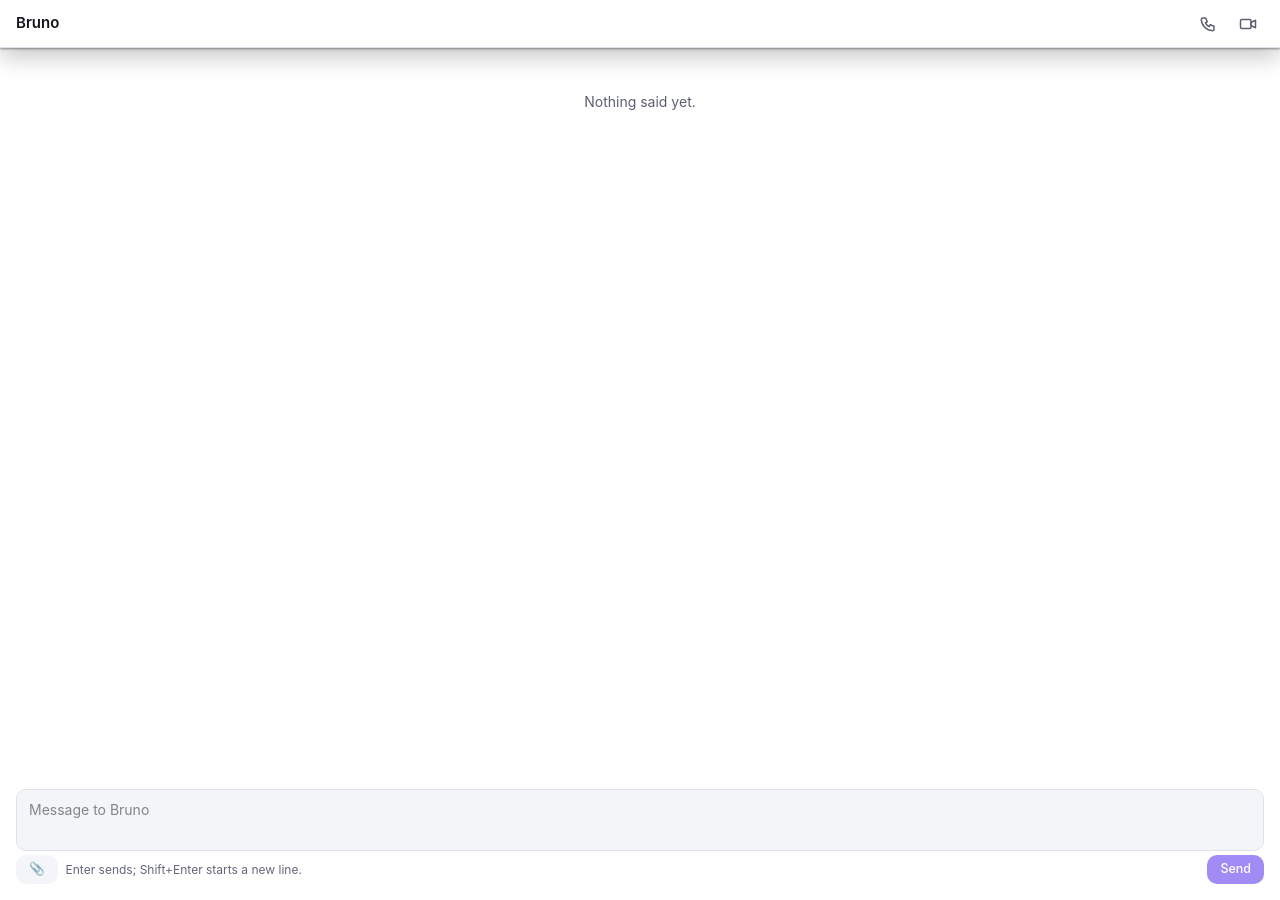
Test: a refusal is said in the interface's words
The width and height of the screenshot is (1280, 900).
Type "hello" into the text box labelled "Message to Bruno" at [640, 820], box [16,789,1264,851]
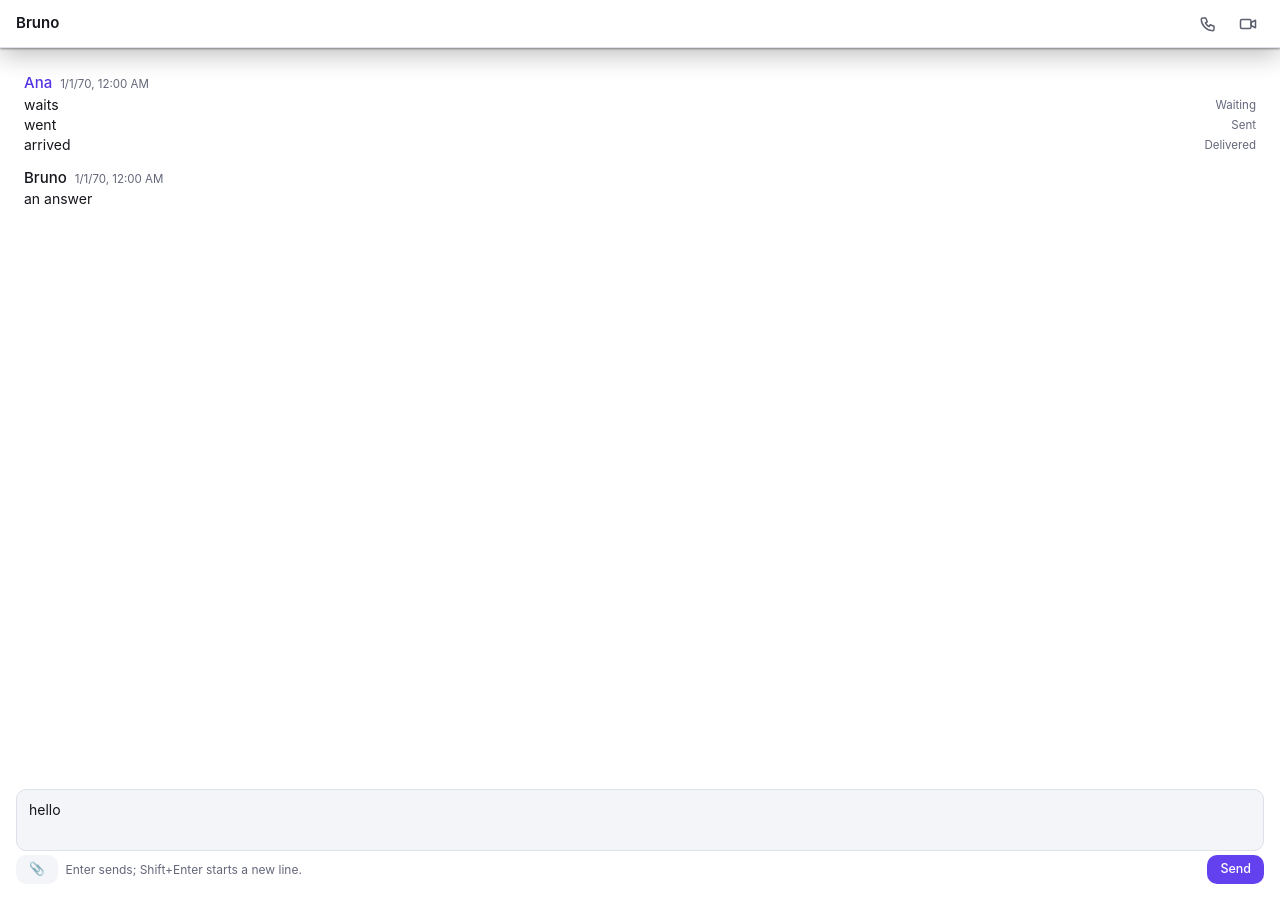
Click the button "Send" at [1236, 870], box [1207,855,1264,884]
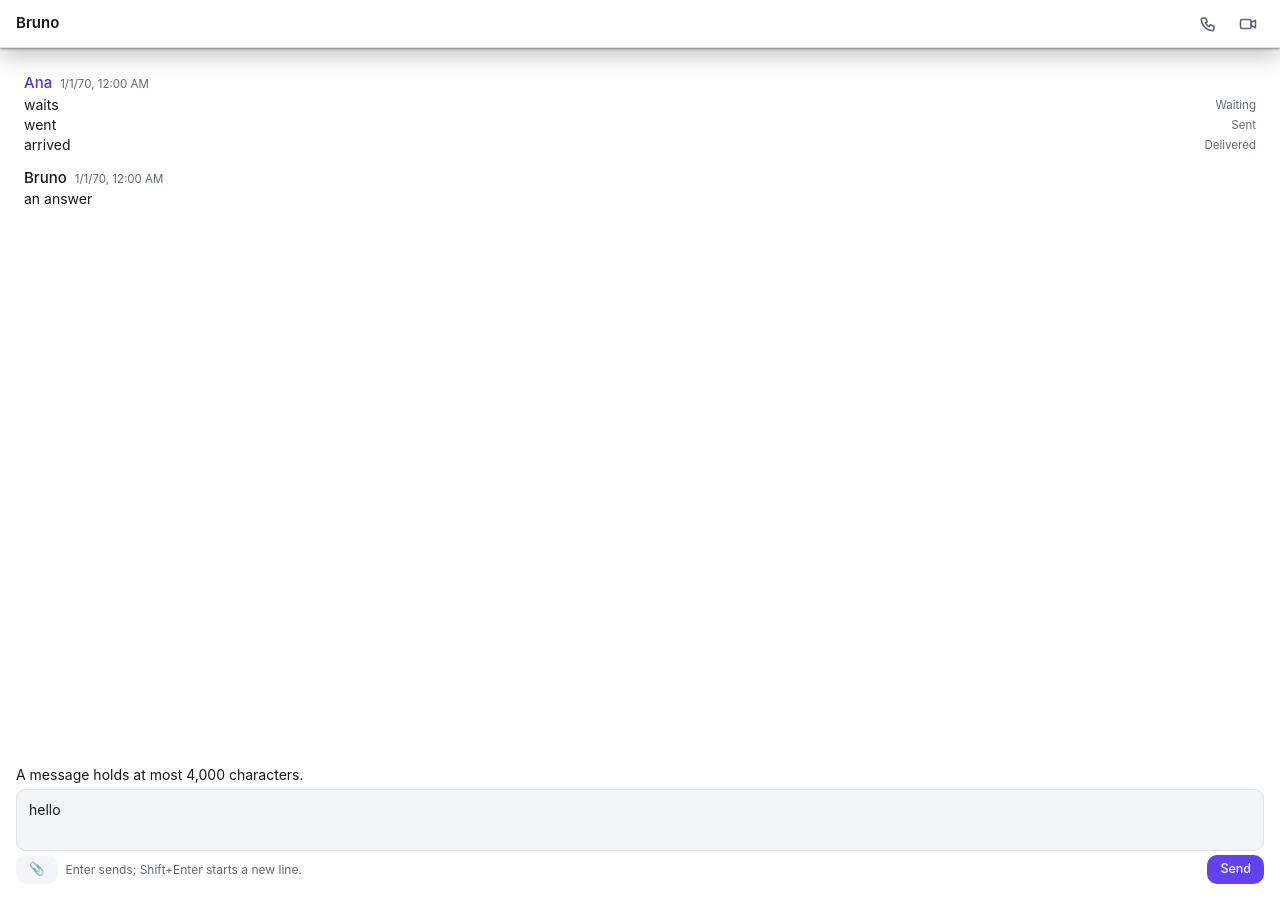
expect the text "A message holds at most 4,000 characters." is shown: met, box [16,766,304,783]
